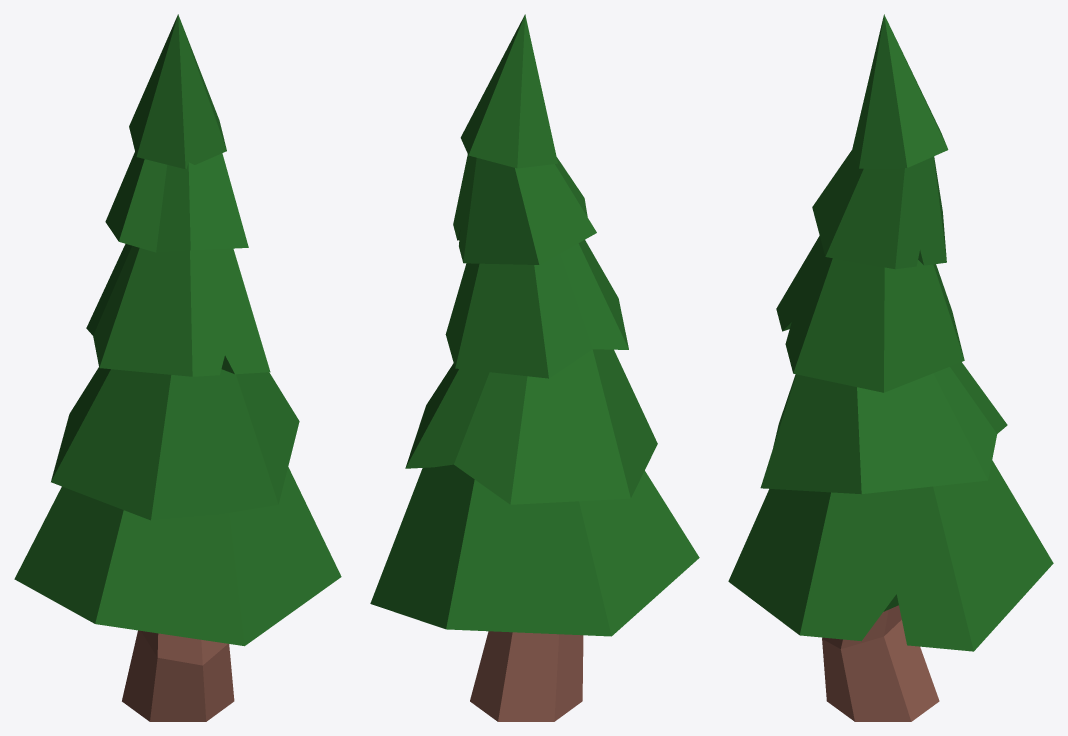
The model's file is evergreen_1.fbx.
The picture shows the model from 3 angles, left to right: view 1: azimuth 30°, elevation 25°; view 2: azimuth 150°, elevation 25°; view 3: azimuth 270°, elevation 25°; orthographic projection.
Parts seen in each view (by area): view 1: Cylinder.001, Cylinder.002, Cylinder.003, Cylinder.004, Cylinder.005, Cylinder; view 2: Cylinder.001, Cylinder.002, Cylinder.003, Cylinder.004, Cylinder, Cylinder.005; view 3: Cylinder.001, Cylinder.002, Cylinder.003, Cylinder.004, Cylinder, Cylinder.005.
Boxes of the visible parts, x1=… form: Cylinder.001: x1=14, y1=467, x2=341, y2=646; Cylinder.002: x1=51, y1=367, x2=299, y2=520; Cylinder.003: x1=86, y1=244, x2=270, y2=376; Cylinder.004: x1=105, y1=152, x2=248, y2=252; Cylinder.005: x1=129, y1=14, x2=226, y2=169; Cylinder: x1=122, y1=630, x2=234, y2=721; Cylinder.001: x1=370, y1=464, x2=699, y2=636; Cylinder.002: x1=405, y1=349, x2=657, y2=504; Cylinder.003: x1=445, y1=240, x2=628, y2=378; Cylinder.004: x1=453, y1=154, x2=596, y2=264; Cylinder: x1=470, y1=631, x2=583, y2=721; Cylinder.005: x1=460, y1=14, x2=557, y2=168; Cylinder.001: x1=728, y1=460, x2=1053, y2=651; Cylinder.002: x1=760, y1=362, x2=1007, y2=494; Cylinder.003: x1=776, y1=236, x2=964, y2=392; Cylinder.004: x1=812, y1=148, x2=946, y2=269; Cylinder: x1=822, y1=605, x2=939, y2=721; Cylinder.005: x1=852, y1=14, x2=948, y2=168.
Size of the model in its own units: 1595 by 1417 by 3720.
